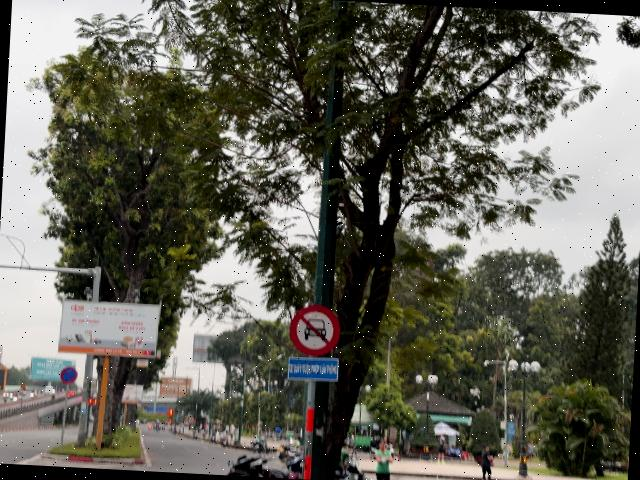cam-o-to: (288, 302, 342, 357)
